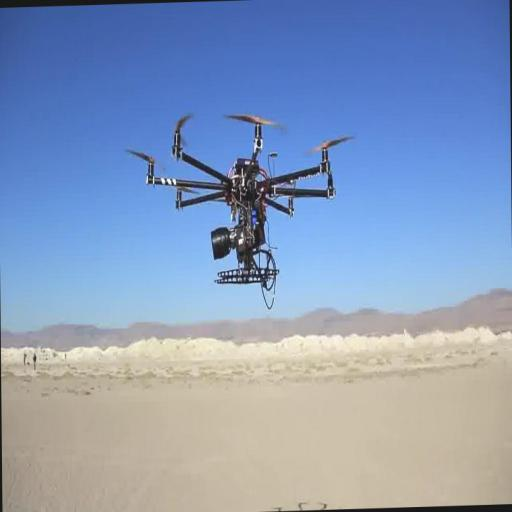drone: (124, 108, 353, 284)
